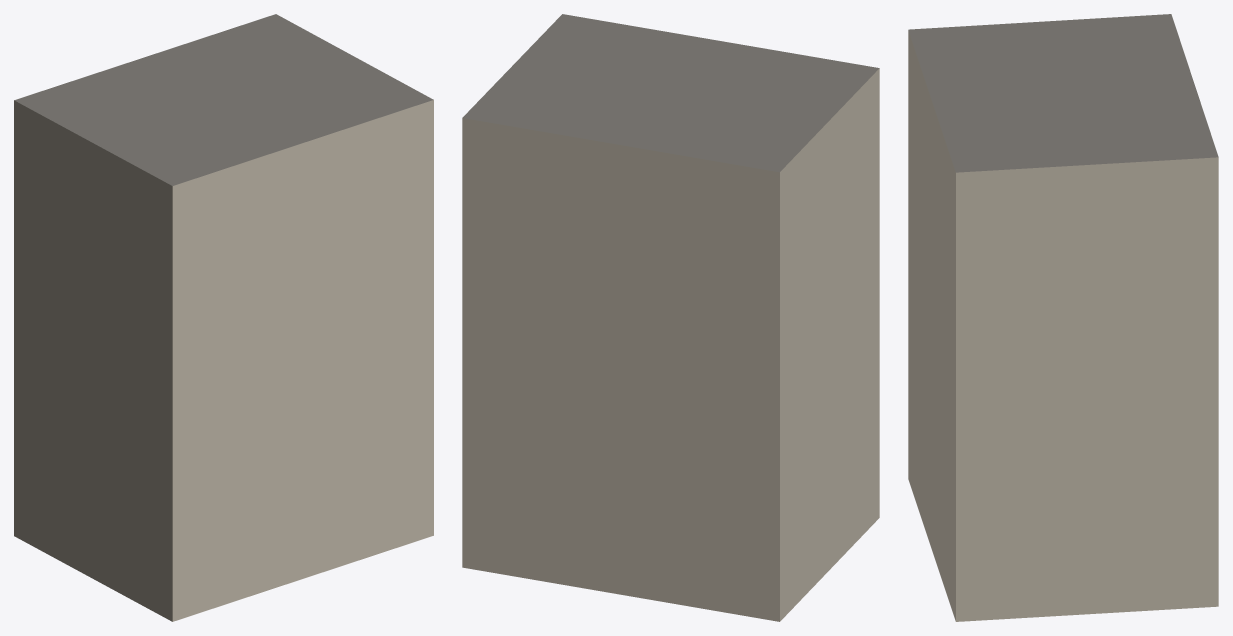
3 renders of one model, left to right at view 1: azimuth 30°, elevation 25°; view 2: azimuth 150°, elevation 25°; view 3: azimuth 270°, elevation 25°, orthographic. The views are drawn at different scales.
Visible parts, largest first — view 1: HP-w1197839029; view 2: HP-w1197839029; view 3: HP-w1197839029.
Part boxes in pixels (x1,y1,x2,y2): HP-w1197839029: [14, 14, 433, 621]; HP-w1197839029: [462, 14, 879, 621]; HP-w1197839029: [908, 14, 1218, 621].
Bounding box in the file's own units: 11.36 × 15 × 9.39.
